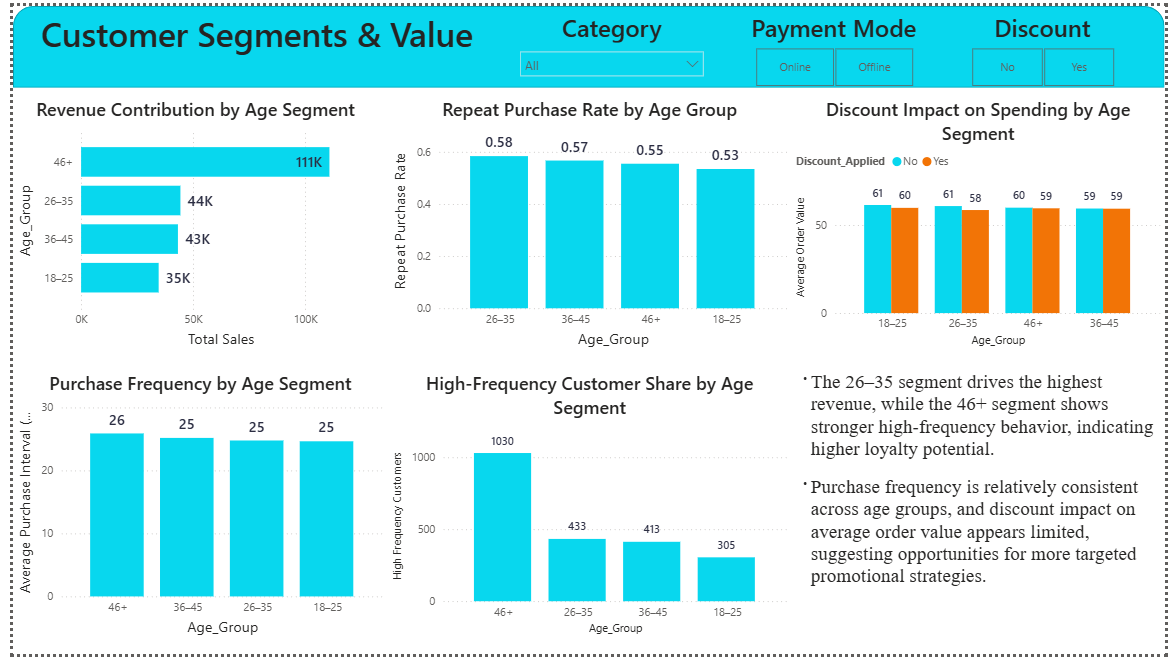

The page's visual inventory and layout, read from the dashboard file:
{"tool":"powerbi","page":{"name":"Customer Segments & Value","canvas":[1280,720],"ordinal":1},"visuals":[{"type":"shape","box":[0,0,1279.5,90.9],"z":0},{"type":"barChart","title":"Revenue Contribution by Age Segment","fields":{"Category":["customer_shopping_behavior.Age_Group"],"Y":["Calculated_Measures.Total Sales"]},"box":[0,95.4,405.8,289.2],"z":1000},{"type":"textbox","box":[0,0,542.1,90.9],"z":2000},{"type":"columnChart","title":"Repeat Purchase Rate by Age Group","fields":{"Category":["customer_shopping_behavior.Age_Group"],"Y":["Calculated_Measures.Repeat Purchase Rate"]},"box":[416.4,95.4,448.2,289.2],"z":3000},{"type":"columnChart","title":"Purchase Frequency by Age Segment","fields":{"Category":["customer_shopping_behavior.Age_Group"],"Y":["Calculated_Measures.Average Purchase Interval (Days)"]},"box":[0,399.8,416.4,304.4],"z":4000},{"type":"slicer","title":"Payment Mode","fields":{"Values":["customer_shopping_behavior.Sales_channel"]},"box":[799.5,0,224.1,95.4],"z":5000},{"type":"columnChart","title":"High-Frequency Customer Share by Age Segment","fields":{"Category":["customer_shopping_behavior.Age_Group"],"Y":["Calculated_Measures.High Frequency Customers"]},"box":[416.4,399.8,448.2,304.4],"z":6000},{"type":"clusteredColumnChart","title":"Discount Impact on Spending by Age Segment","fields":{"Category":["customer_shopping_behavior.Age_Group"],"Series":["customer_shopping_behavior.Discount_Applied"],"Y":["Calculated_Measures.Average Order Value"]},"box":[864.6,95.4,414.9,289.2],"z":7000},{"type":"textbox","box":[864,400,416,304],"z":8000},{"type":"slicer","title":"Discount","fields":{"Values":["customer_shopping_behavior.Discount_Applied"]},"box":[1040.3,0,207.4,95.4],"z":9000},{"type":"slicer","title":"Category","fields":{"Values":["customer_shopping_behavior.Category"]},"box":[552.7,0,224.1,95.4],"z":10000}]}

Visuals, with their boxes in screenshot pixels (x1, y1, x2, y2), scaled from the page's 1280x720 canvas onto the 1176x664 screenshot:
shape: 0, 0, 1175, 84
"Revenue Contribution by Age Segment" barChart: 0, 88, 373, 355
textbox: 0, 0, 498, 84
"Repeat Purchase Rate by Age Group" columnChart: 383, 88, 794, 355
"Purchase Frequency by Age Segment" columnChart: 0, 369, 383, 649
"Payment Mode" slicer: 735, 0, 940, 88
"High-Frequency Customer Share by Age Segment" columnChart: 383, 369, 794, 649
"Discount Impact on Spending by Age Segment" clusteredColumnChart: 794, 88, 1175, 355
textbox: 794, 369, 1175, 649
"Discount" slicer: 956, 0, 1146, 88
"Category" slicer: 508, 0, 714, 88
